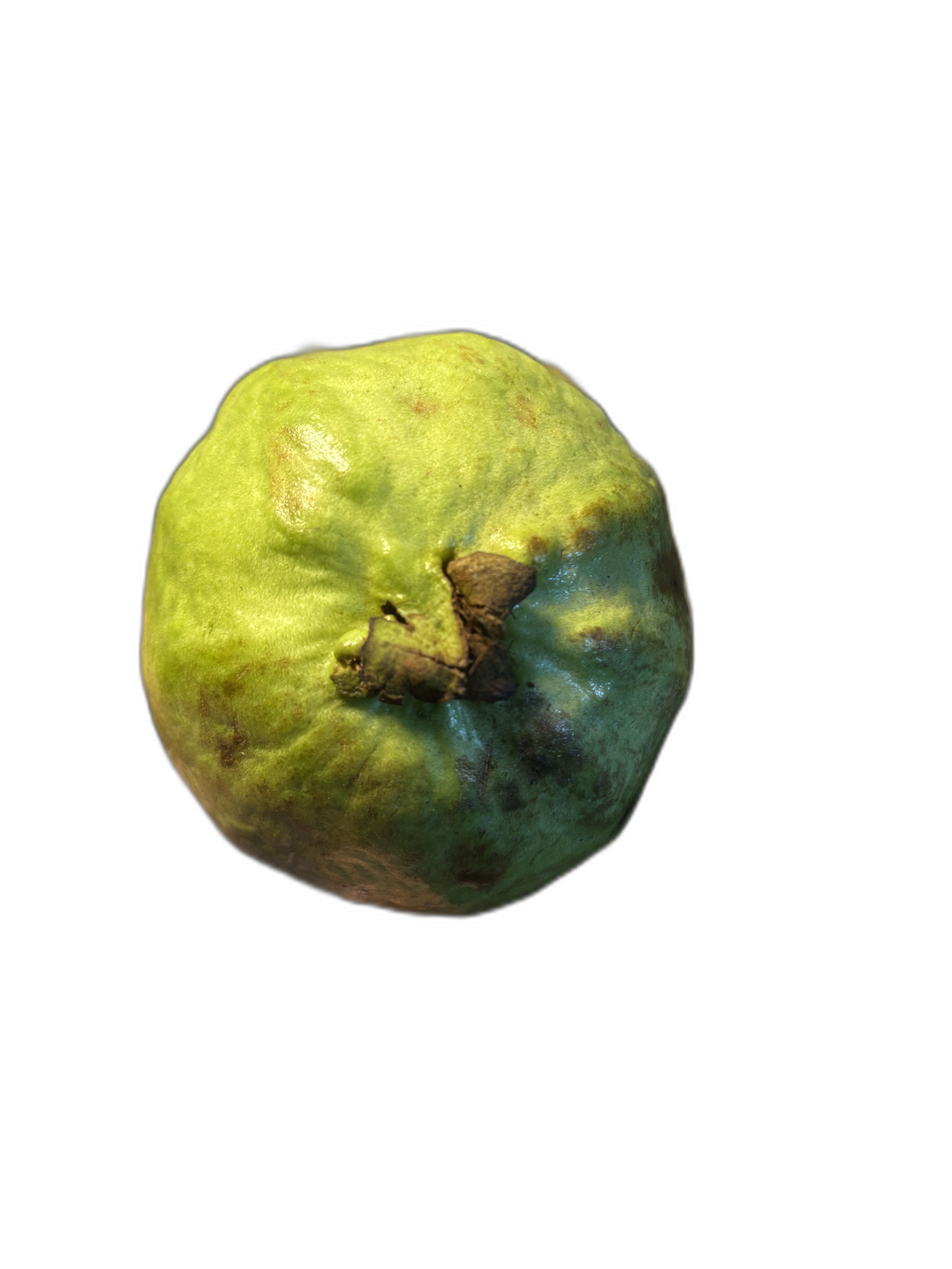guava: (111, 264, 908, 1245)
